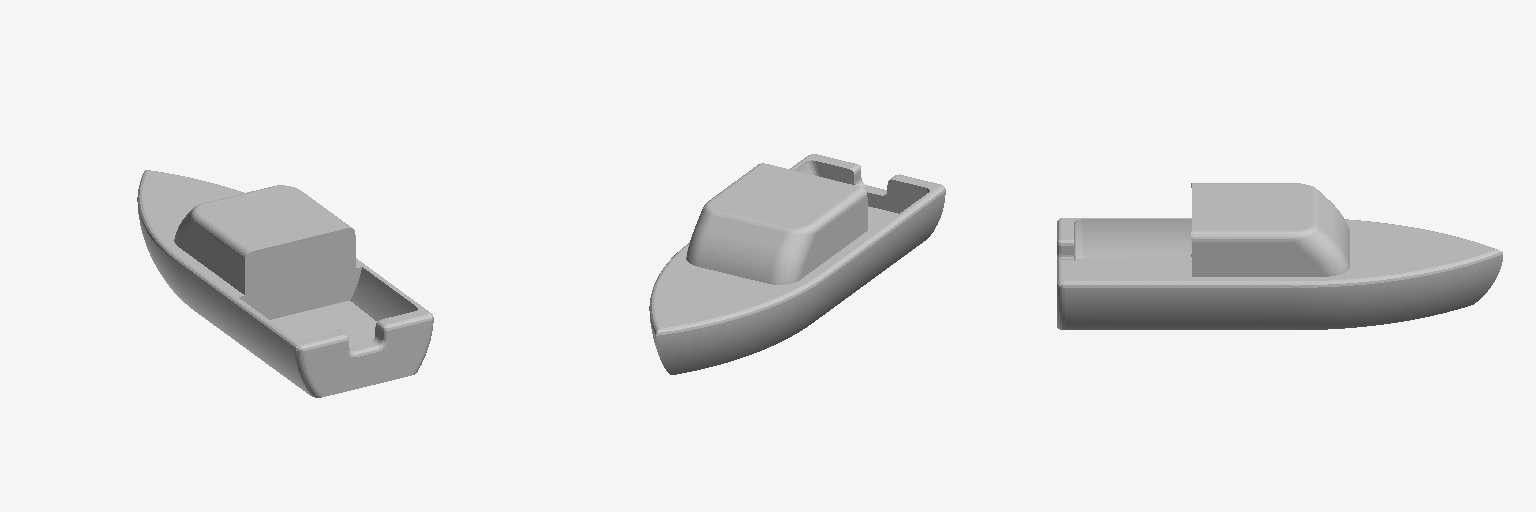
Rendered from boat-artmesh.obj.
The picture shows the model from 3 angles: view 1: azimuth 30°, elevation 25°; view 2: azimuth 150°, elevation 25°; view 3: azimuth 270°, elevation 25°; orthographic projection.
Parts seen in each view (by area): view 1: boat-artmesh; view 2: boat-artmesh; view 3: boat-artmesh.
Boxes of the visible parts, x1,y1,x2,y2 form: boat-artmesh: [137, 170, 433, 397]; boat-artmesh: [649, 154, 945, 374]; boat-artmesh: [1057, 183, 1502, 329].
Bounding box in the file's own units: 0.3419 × 0.2305 × 0.958.